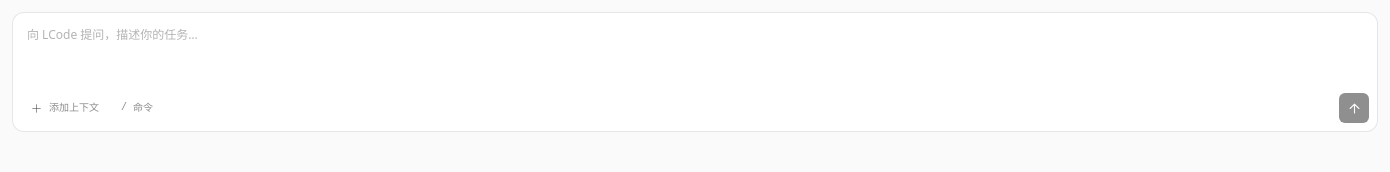
Test: Composer · 发送与停止（AC-001-1/2/4） › run error 终态：收敛 idle 后 Composer 回到可输入态（可打字、发送钮可用，B2）
Type "换个模型再试一次" into the text box with test id "composer-input" at x=695, y=50, box x1=13 y1=13 x2=1377 y2=87
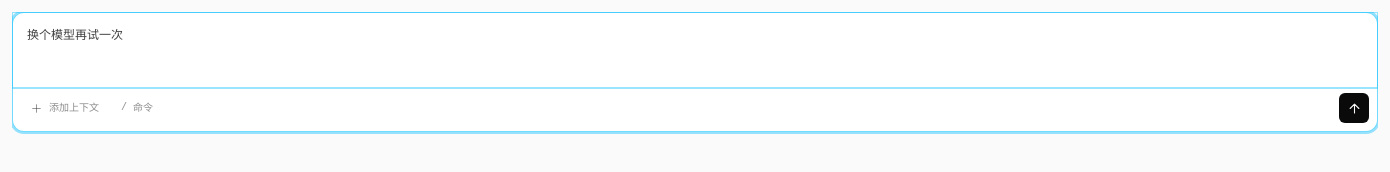
Expected: the button with test id "composer-send" is enabled, x1=1339 y1=93 x2=1369 y2=123
